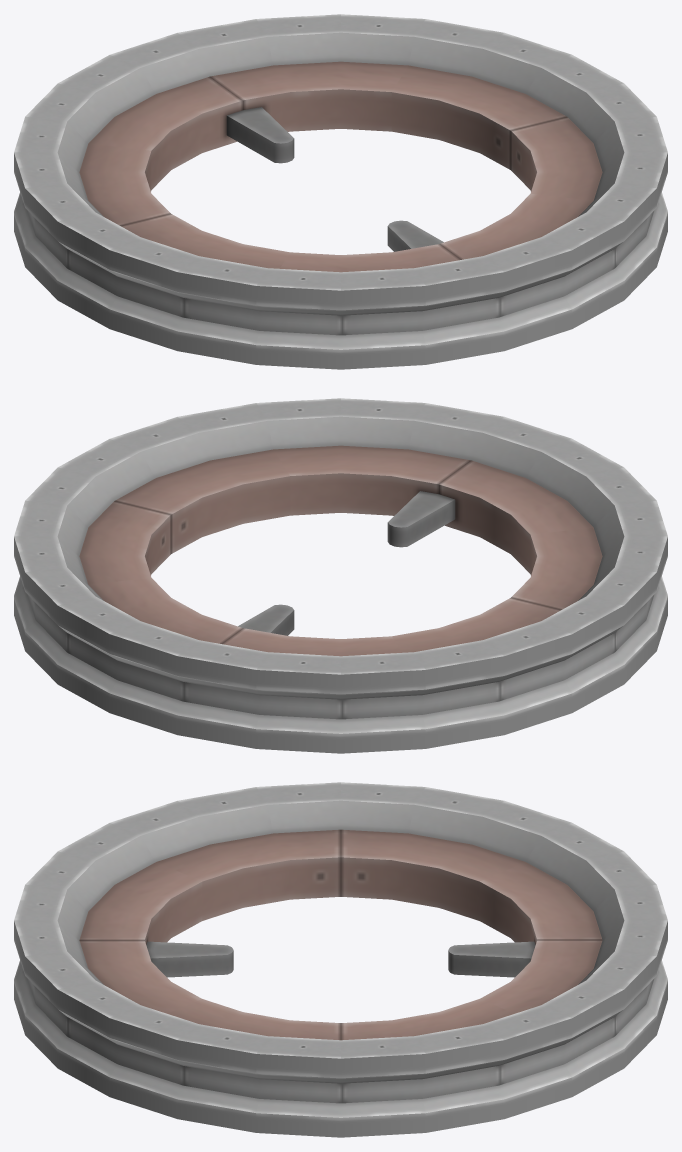
Rendered from LLV_O_Decoupler_1.obj.
3 views of the same model, one above another, from view 1: azimuth 30°, elevation 25°; view 2: azimuth 150°, elevation 25°; view 3: azimuth 270°, elevation 25° (orthographic).
Visible parts, largest first — view 1: LLV_O_Decoupler_1; view 2: LLV_O_Decoupler_1; view 3: LLV_O_Decoupler_1.
Part boxes in pixels (x1,y1,x2,y2): LLV_O_Decoupler_1: [14, 14, 667, 369]; LLV_O_Decoupler_1: [14, 398, 667, 753]; LLV_O_Decoupler_1: [14, 782, 667, 1137].
Size of the model in its own units: 0.9375 by 0.125 by 0.9375.
